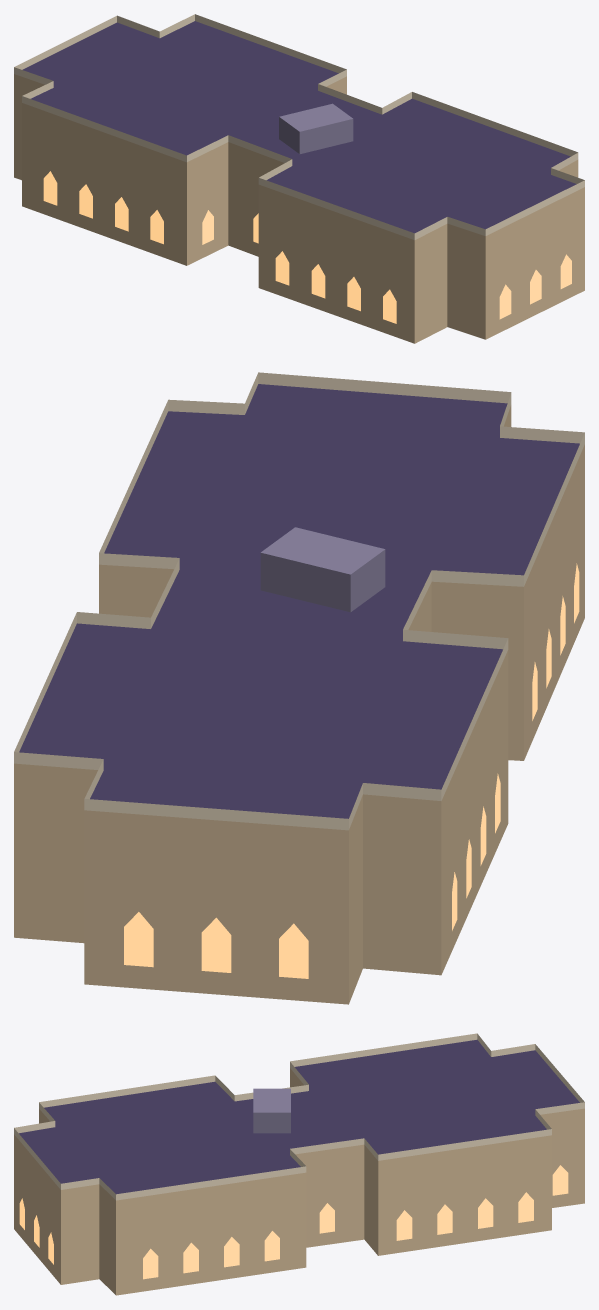
3 renders of one model, top to bottom at view 1: azimuth 30°, elevation 25°; view 2: azimuth 150°, elevation 25°; view 3: azimuth 270°, elevation 25°, orthographic. The views are drawn at different scales.
Visible parts, largest first — view 1: campus/b-116-0; view 2: campus/b-116-0; view 3: campus/b-116-0.
Boxes of the visible parts, x1=… form: campus/b-116-0: x1=14, y1=14, x2=584, y2=343; campus/b-116-0: x1=14, y1=372, x2=584, y2=1004; campus/b-116-0: x1=14, y1=1033, x2=584, y2=1295.
Bounding box in the file's own units: 30.14 × 10.1 × 45.21.
